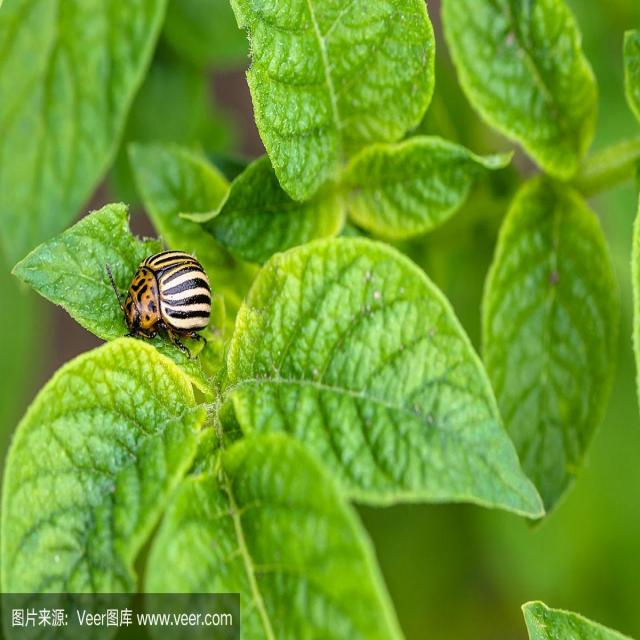ShuCaiHuaBanChong-Grown-: (112, 240, 220, 354)
